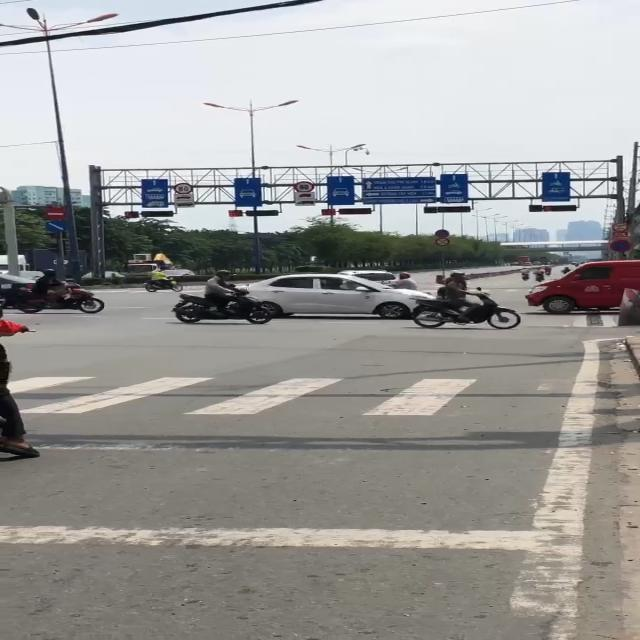Bien bao cam di nguoc chieu: (42, 207, 68, 220)
Bien bao huong phai di vong chuong ngai vat: (44, 220, 70, 234)
Bien bao toc do toi da cho phep: (172, 181, 196, 194), (293, 181, 317, 193)
